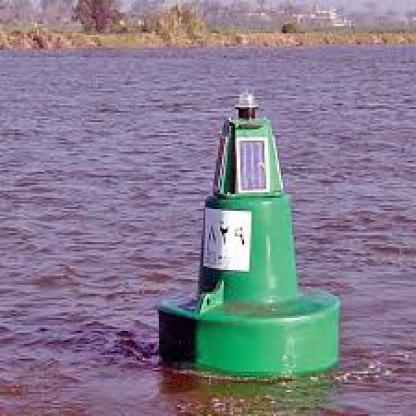buoy: (146, 74, 353, 381)
